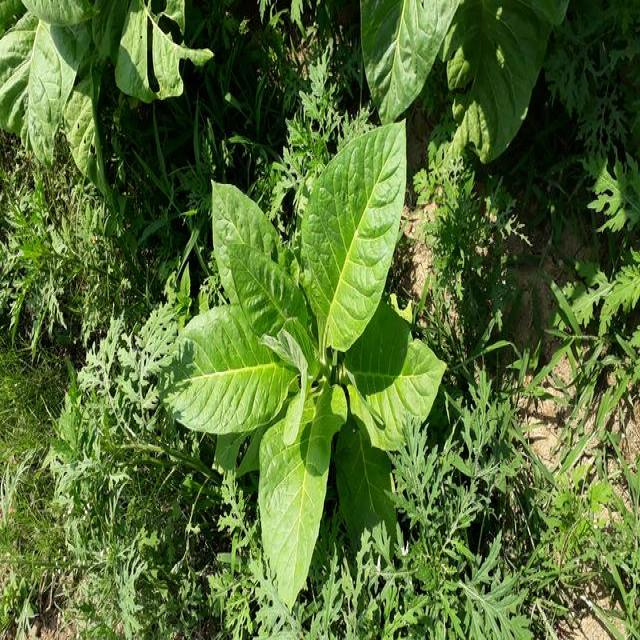crop: (178, 126, 446, 594)
